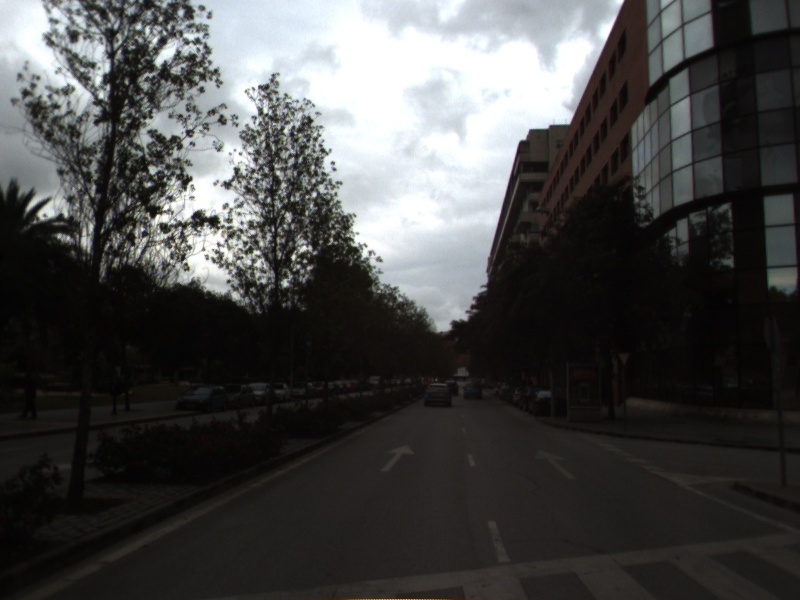STRAIGHT: (532, 447, 581, 482), (378, 442, 418, 474)
